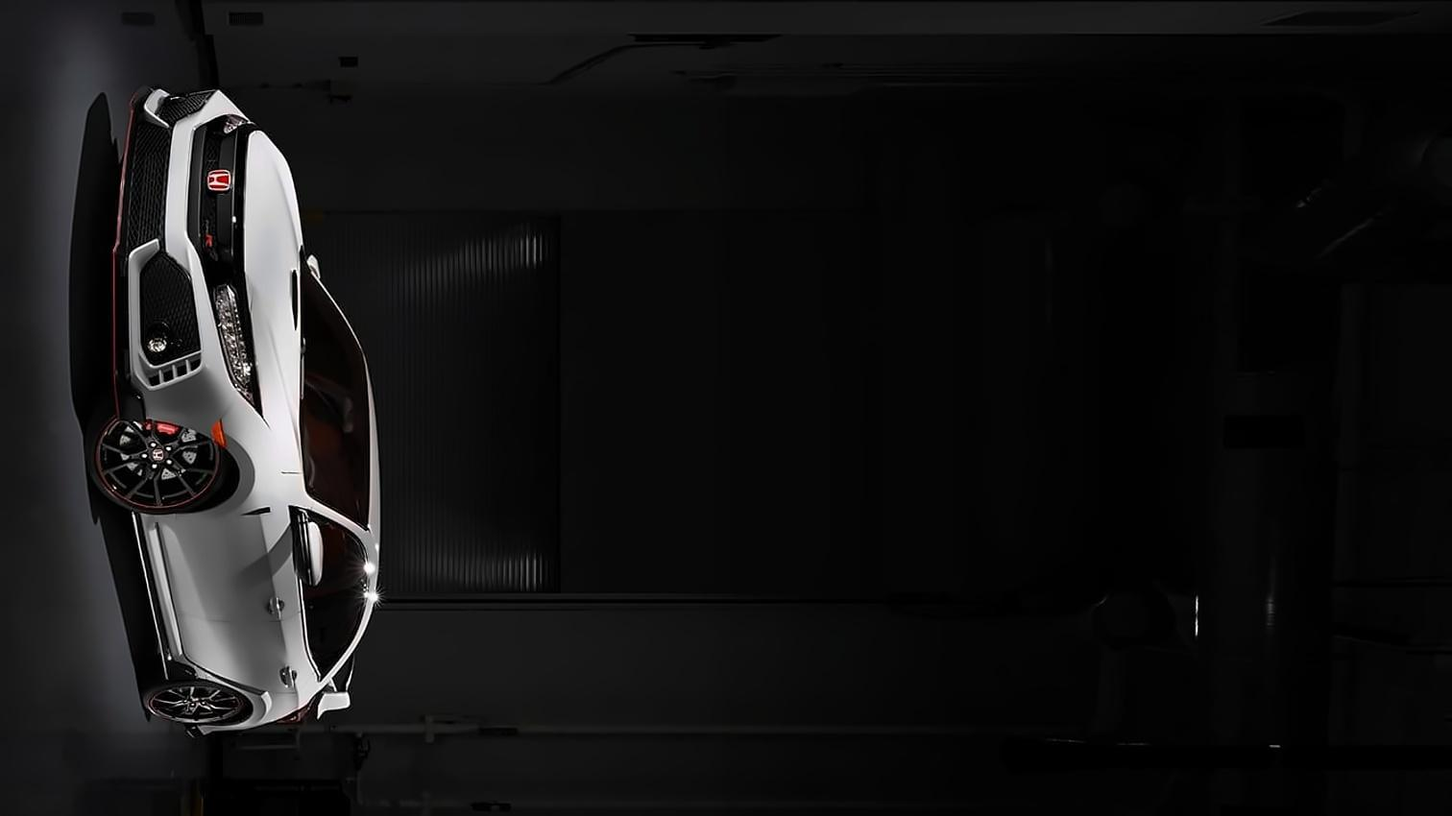Car hood: (239, 119, 309, 428)
Fender - -F-L-: (126, 394, 320, 534)
Fender - -R-L-: (220, 660, 318, 738)
Front bumper: (106, 74, 225, 433)
Headlight - -L-: (203, 273, 278, 434)
Headlight - -R-: (210, 109, 264, 149)
Passenger-s door - -F-L-: (146, 509, 374, 625)
Passenger-s door - -R-L-: (157, 617, 377, 702)
Rear bumper: (172, 717, 260, 747)
Rear light - -L-: (270, 688, 321, 743)
Side bumper - -L-: (111, 505, 188, 688)
Side mirror - -L-: (290, 509, 330, 600)
Side mirror - -R-: (298, 242, 338, 301)
